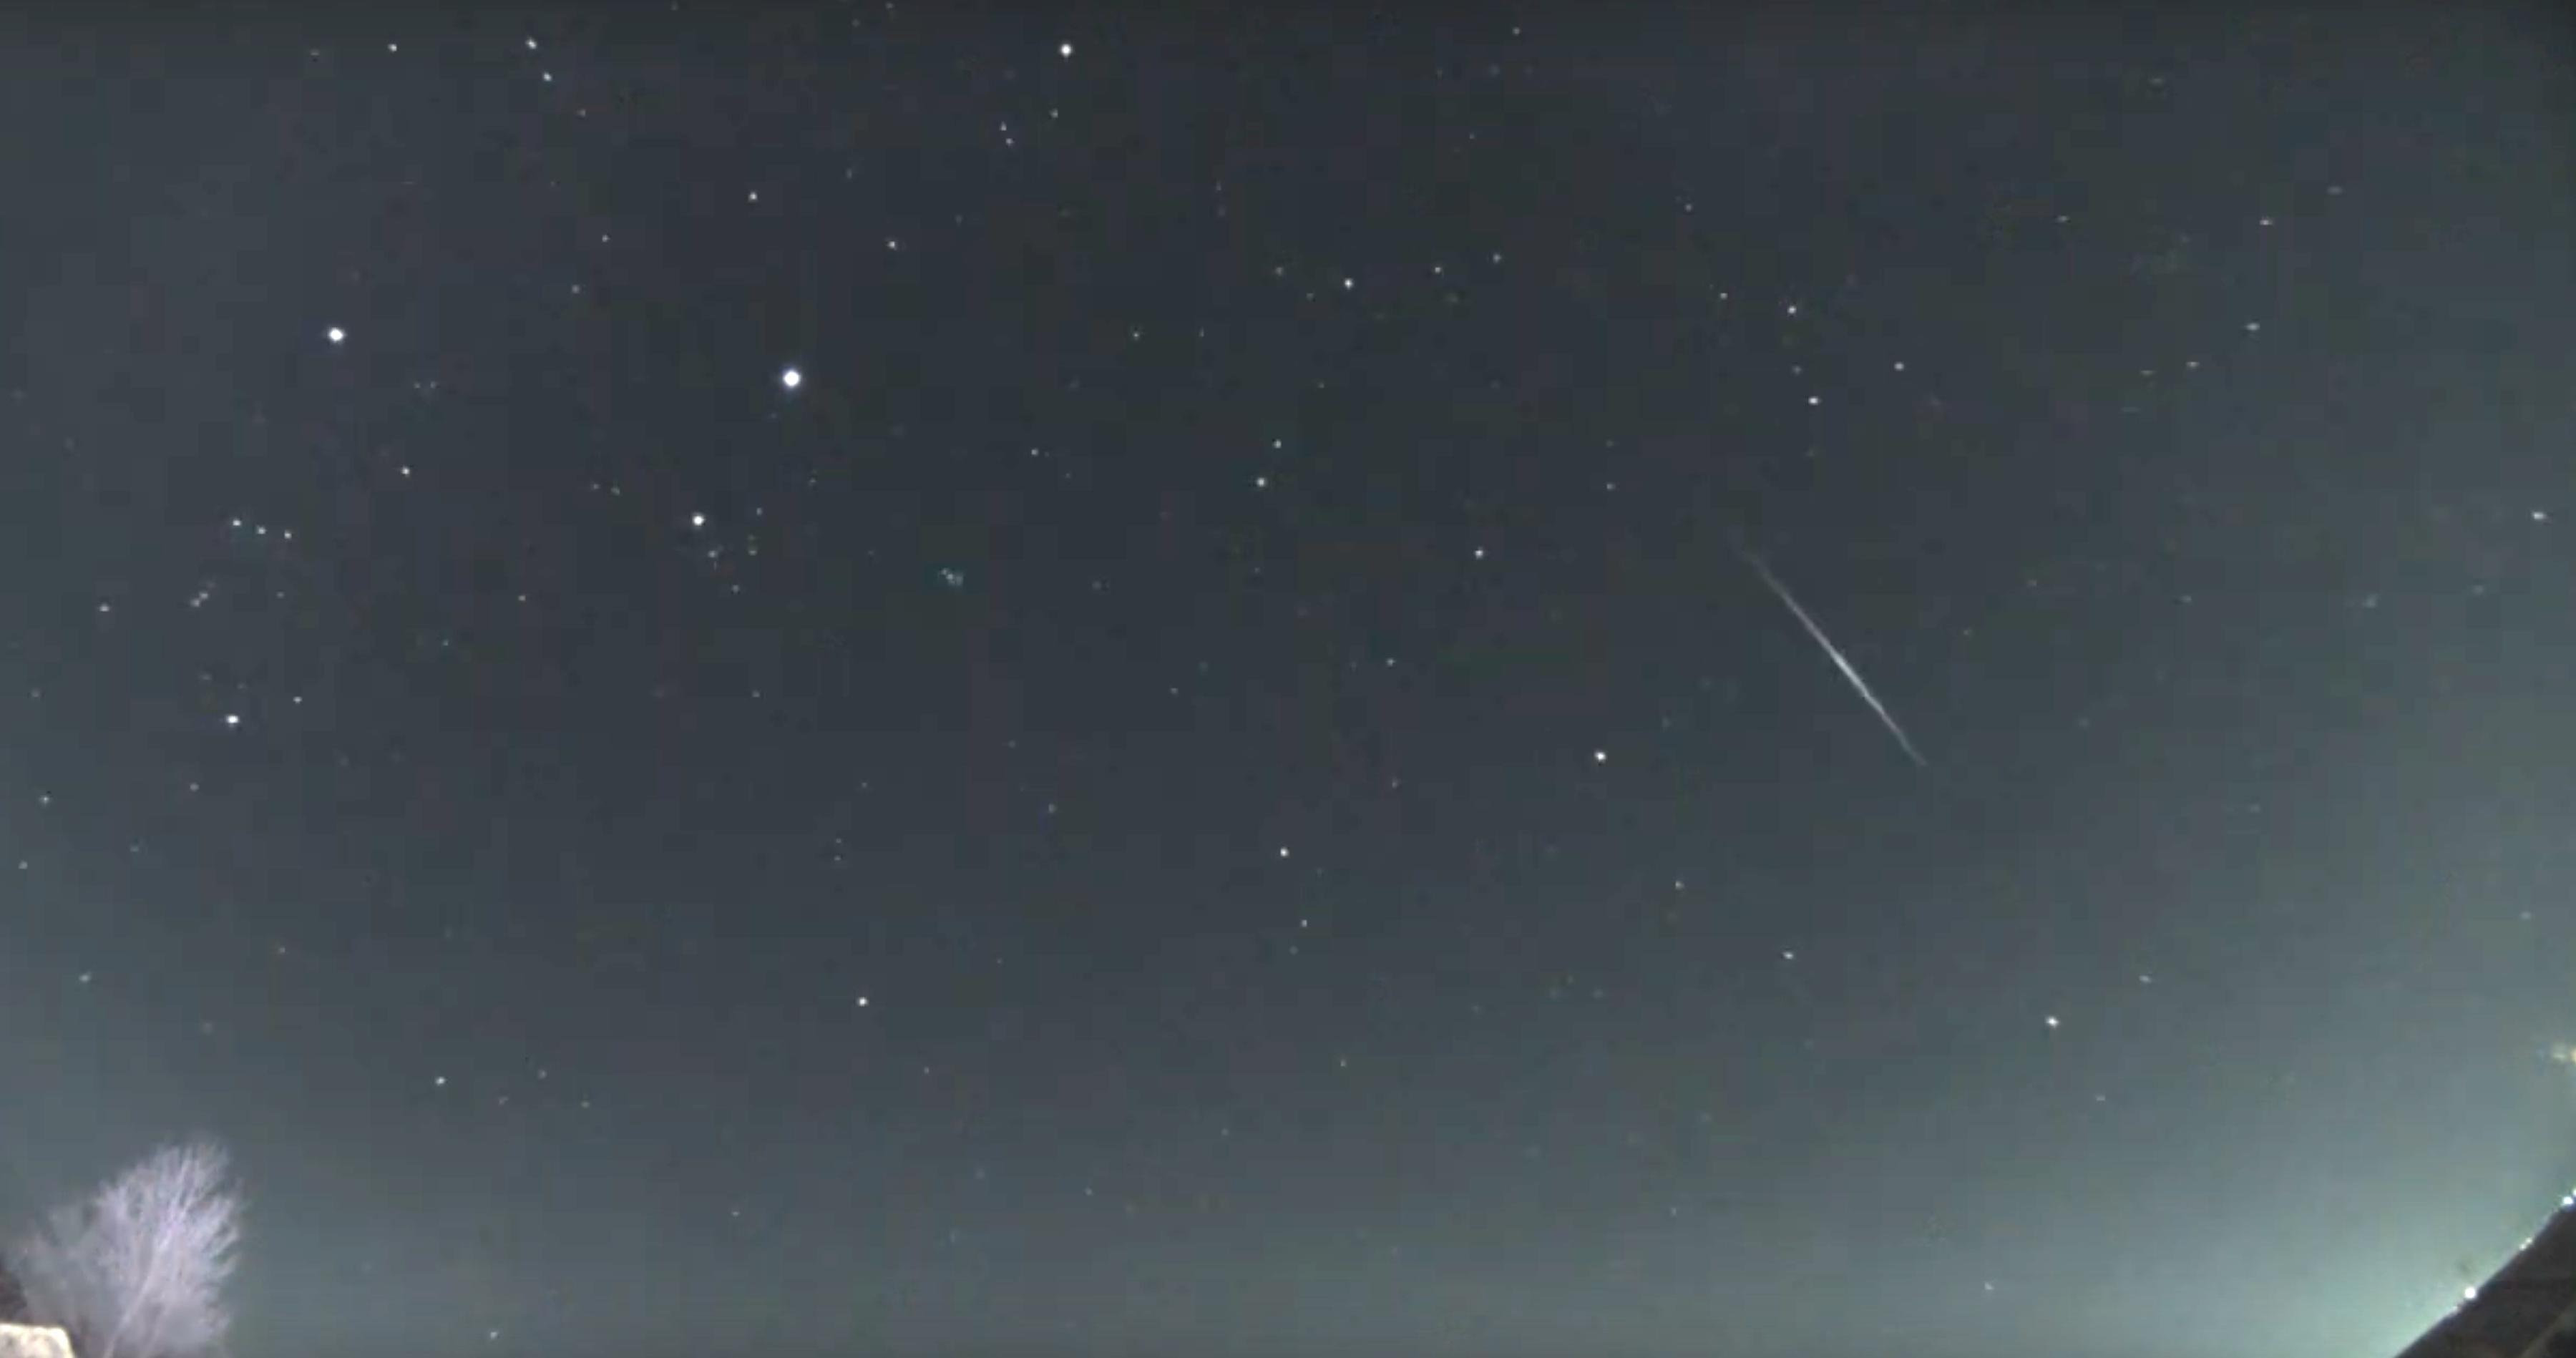meteorite: (1719, 509, 1983, 794)
